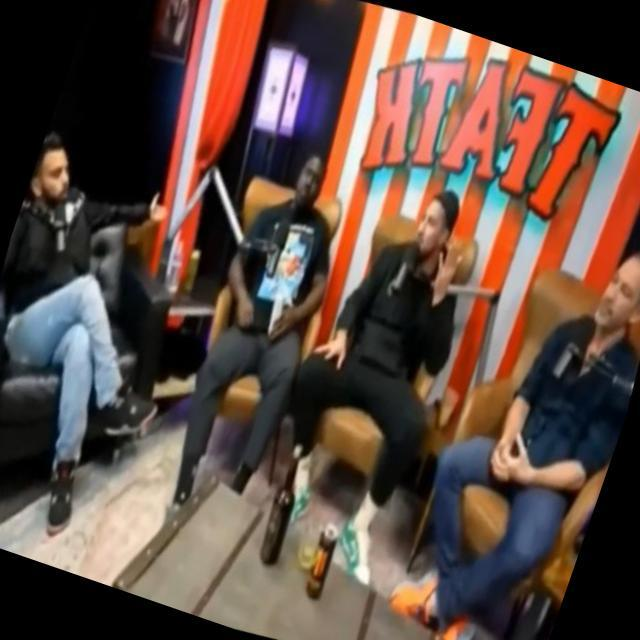person: (353, 184, 640, 640), (232, 143, 515, 586), (132, 121, 387, 544), (0, 126, 207, 543)
